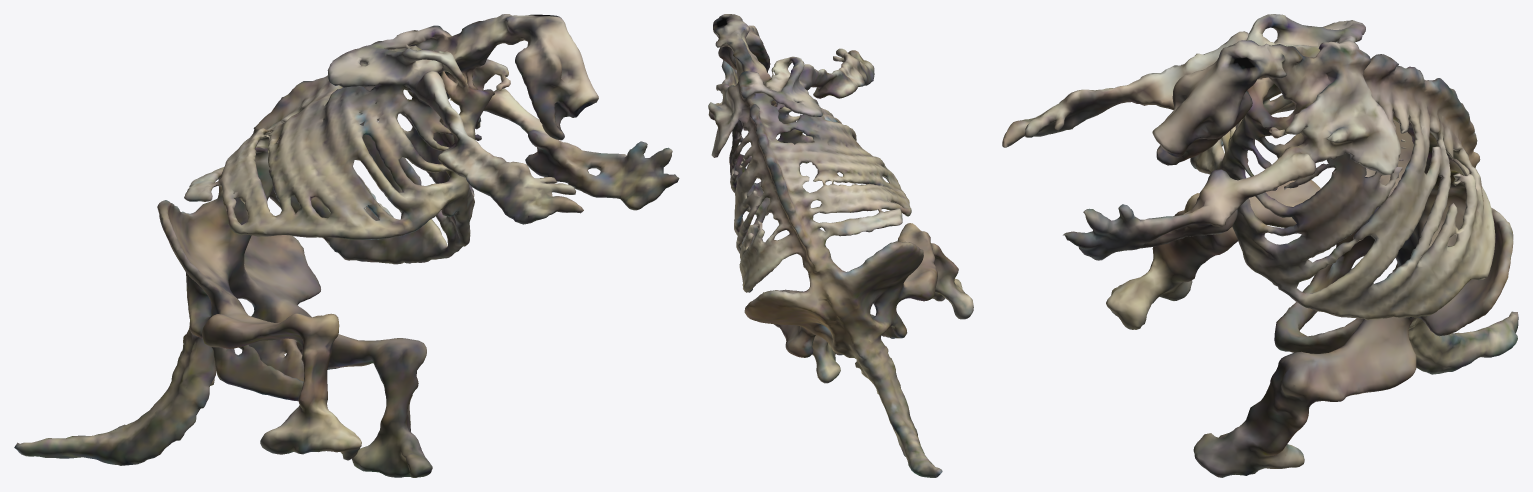
Rendered from perezoso.glb.
3 views of the same model, side by side, from view 1: azimuth 30°, elevation 25°; view 2: azimuth 150°, elevation 25°; view 3: azimuth 270°, elevation 25° (orthographic). The views are drawn at different scales.
Visible parts, largest first — view 1: Object_3; view 2: Object_3; view 3: Object_3.
Part boxes in pixels (<box>): Object_3: <box>14,14,679,477</box>; Object_3: <box>708,14,973,477</box>; Object_3: <box>1002,14,1518,477</box>.
Bounding box in the file's own units: 2.17 × 1.93 × 1.77.
